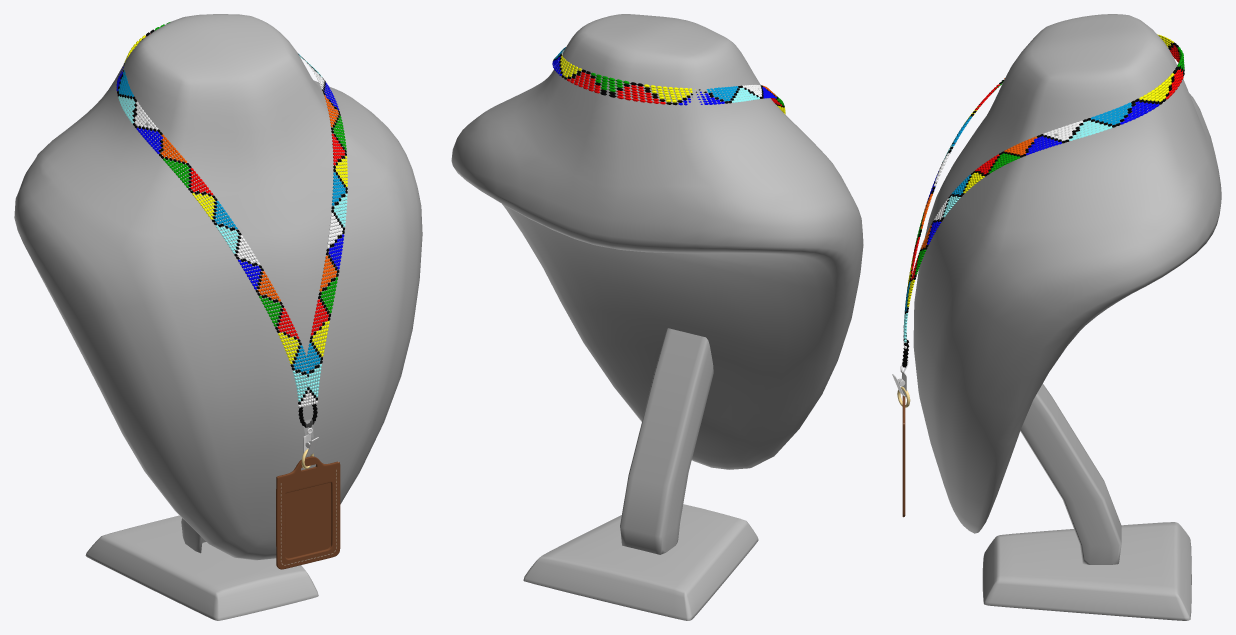
Rendered from prop_lanyard.glb.
3 views of the same model, side by side, from view 1: azimuth 30°, elevation 25°; view 2: azimuth 150°, elevation 25°; view 3: azimuth 270°, elevation 25° (orthographic).
Parts seen in each view (by area): view 1: pasted__polySurface2, polySurface2369, polySurface2357; view 2: pasted__polySurface2, polySurface2369; view 3: pasted__polySurface2, polySurface2369, polySurface2357.
Part boxes in pixels (bbox=[...]): pasted__polySurface2: bbox=[14, 14, 422, 620]; polySurface2369: bbox=[116, 22, 347, 407]; polySurface2357: bbox=[276, 456, 340, 569]; pasted__polySurface2: bbox=[451, 14, 863, 620]; polySurface2369: bbox=[552, 47, 785, 114]; pasted__polySurface2: bbox=[913, 14, 1221, 620]; polySurface2369: bbox=[903, 34, 1184, 348]; polySurface2357: bbox=[902, 395, 905, 517].
Size of the model in its own units: 0.192 by 0.2666 by 0.1462.
Materials: 14 (1 with a texture image).
